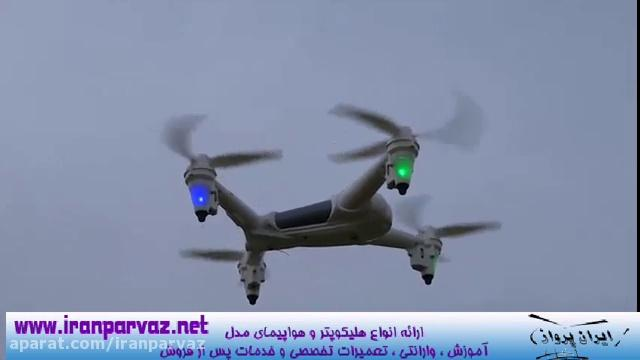drone: (156, 85, 508, 306)
